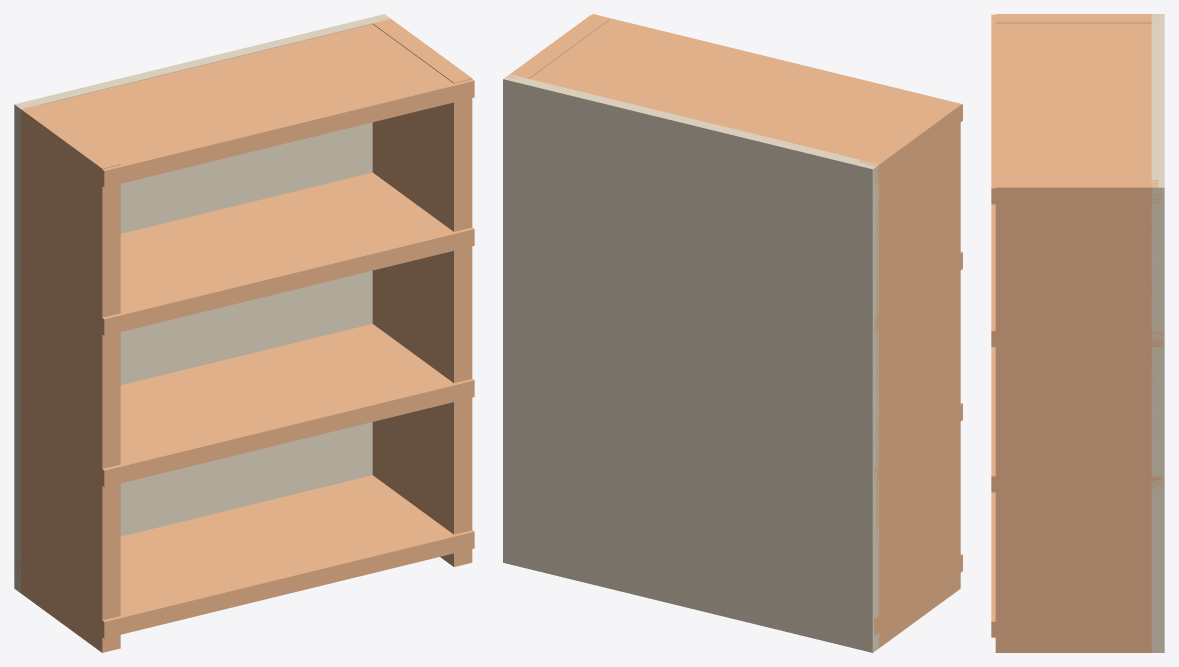
3 views of the same model, side by side, from view 1: azimuth 30°, elevation 25°; view 2: azimuth 150°, elevation 25°; view 3: azimuth 270°, elevation 25° (orthographic). The views are drawn at different scales.
Parts seen in each view (by area): view 1: Back, Side, Shelf.003, Side.001, Shelf, Shelf.002, Shelf.001; view 2: Back, Side, Shelf.003, Side.001, Shelf, Shelf.002, Shelf.001; view 3: Side.001, Shelf.003, Back, Shelf.001, Shelf.002, Shelf, Side.
Part boxes in pixels (<box>): Back: <box>14,14,390,592</box>; Side: <box>21,103,120,652</box>; Shelf.003: <box>16,24,474,187</box>; Side.001: <box>372,18,472,566</box>; Shelf: <box>15,475,474,638</box>; Shelf.002: <box>15,172,474,335</box>; Shelf.001: <box>16,324,474,487</box>; Back: <box>503,74,879,652</box>; Side: <box>858,100,960,648</box>; Shelf.003: <box>529,14,962,184</box>; Side.001: <box>507,15,609,80</box>; Shelf: <box>874,554,962,635</box>; Shelf.002: <box>874,252,962,332</box>; Shelf.001: <box>874,403,962,482</box>; Side.001: <box>995,179,1158,652</box>; Shelf.003: <box>991,14,1162,204</box>; Back: <box>1151,14,1164,652</box>; Shelf.001: <box>991,347,1162,492</box>; Shelf.002: <box>991,204,1162,346</box>; Shelf: <box>991,492,1161,637</box>; Side: <box>995,14,1157,23</box>.
Bounding box in the file's own units: 0.96 × 1.2 × 0.405.
1 material, 1 textured.
